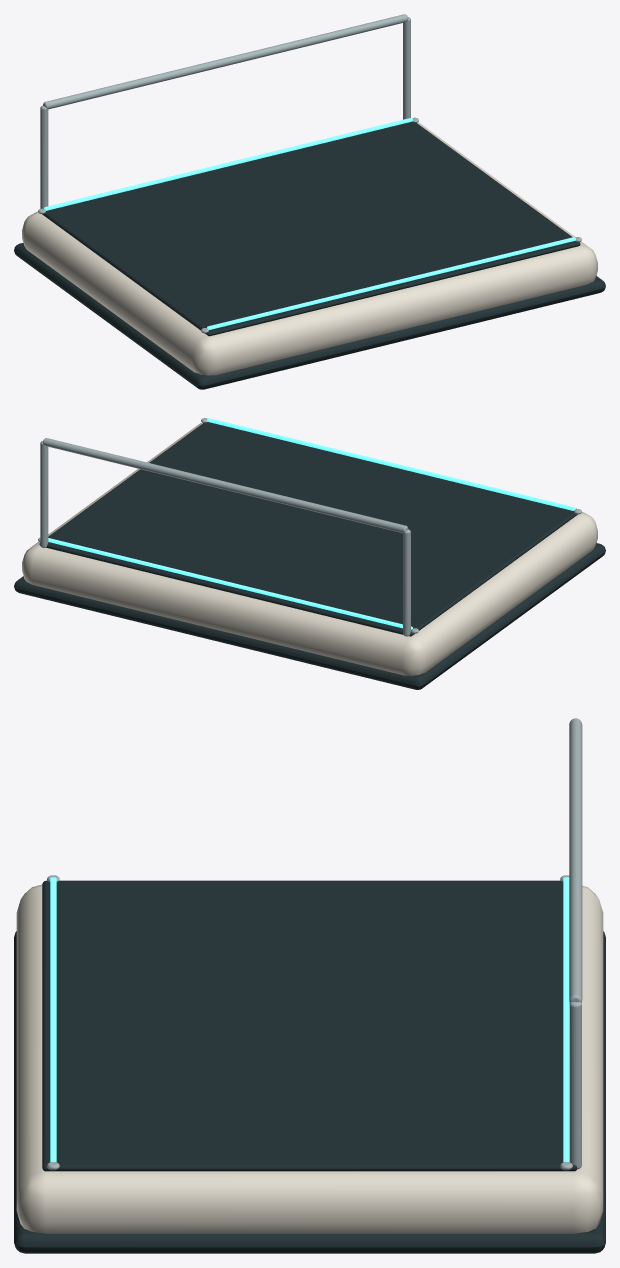
The model's file is relay-lift.glb.
The picture shows the model from 3 angles, top to bottom: view 1: azimuth 30°, elevation 25°; view 2: azimuth 150°, elevation 25°; view 3: azimuth 270°, elevation 25°; orthographic projection. The views are drawn at different scales.
Visible parts, largest first — view 1: Deck, Floating base, Edge dark, Back guard, Cyan edge.001, Cyan edge, Safety post, Safety post.001; view 2: Deck, Floating base, Edge dark, Back guard, Cyan edge, Cyan edge.001, Safety post.001, Safety post; view 3: Deck, Floating base, Edge dark, Back guard, Safety post.001, Cyan edge, Cyan edge.001.
Part boxes in pixels (bbox=[...]): Deck: bbox=[42, 121, 580, 336]; Floating base: bbox=[22, 122, 597, 375]; Edge dark: bbox=[14, 243, 605, 389]; Back guard: bbox=[43, 14, 408, 109]; Cyan edge.001: bbox=[44, 118, 412, 210]; Cyan edge: bbox=[207, 237, 575, 329]; Safety post: bbox=[40, 105, 48, 208]; Safety post.001: bbox=[403, 17, 410, 119]; Deck: bbox=[39, 422, 577, 636]; Floating base: bbox=[22, 423, 597, 675]; Edge dark: bbox=[14, 543, 605, 689]; Back guard: bbox=[43, 438, 408, 533]; Cyan edge: bbox=[207, 418, 575, 510]; Cyan edge.001: bbox=[48, 538, 412, 629]; Safety post.001: bbox=[40, 441, 48, 547]; Safety post: bbox=[403, 529, 410, 636]; Deck: bbox=[42, 880, 577, 1171]; Floating base: bbox=[16, 884, 603, 1233]; Edge dark: bbox=[14, 931, 605, 1253]; Back guard: bbox=[569, 718, 582, 1002]; Safety post.001: bbox=[569, 1002, 581, 1169]; Cyan edge: bbox=[50, 877, 56, 1161]; Cyan edge.001: bbox=[563, 877, 569, 1161].
Bounding box in the file's own units: 4.06 × 1.47 × 3.23.
